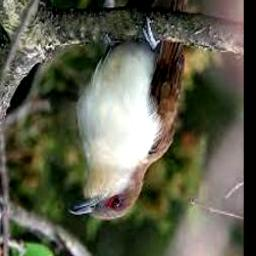Cuckoo: (68, 0, 197, 220)
